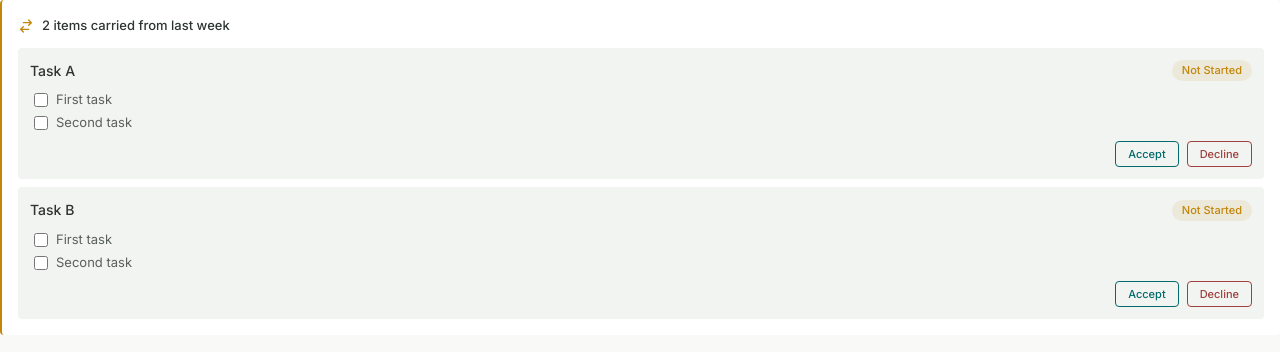
it: CarryForwardPanel › accept interaction › decrements the carried count header after accepting an item
This screenshot has width=1280, height=352.
Expected: the text "2 items carried from last week" is shown, [42,16,230,36]
Click the 1st button "Accept" at (1147, 154), box [1115,141,1179,167]
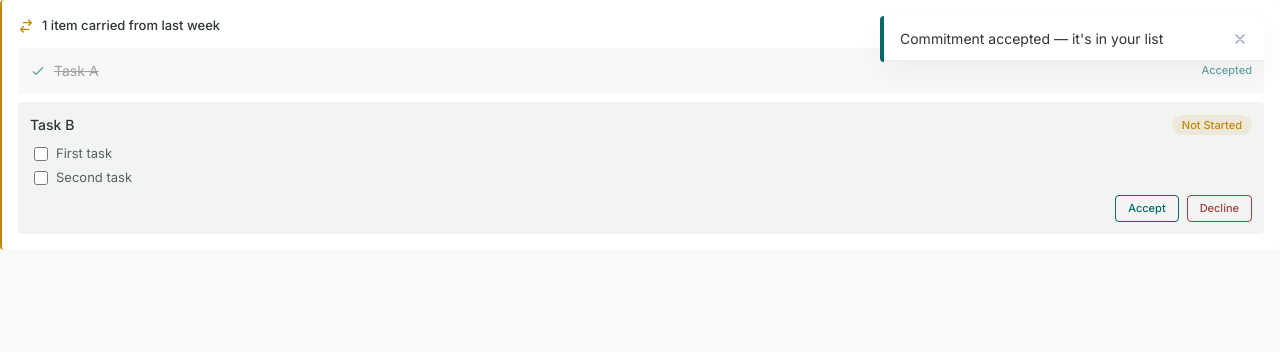
Result: the text "1 item carried from last week" is shown at [42,16,220,36]
